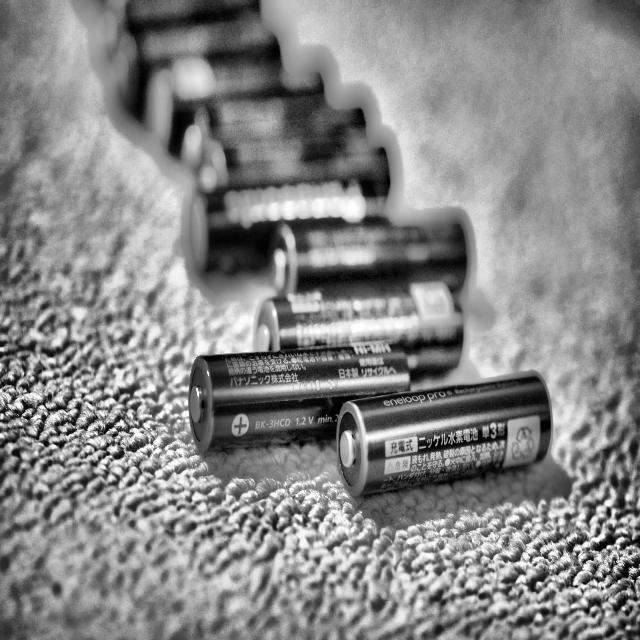drycell: (330, 359, 580, 506), (184, 332, 410, 459)
